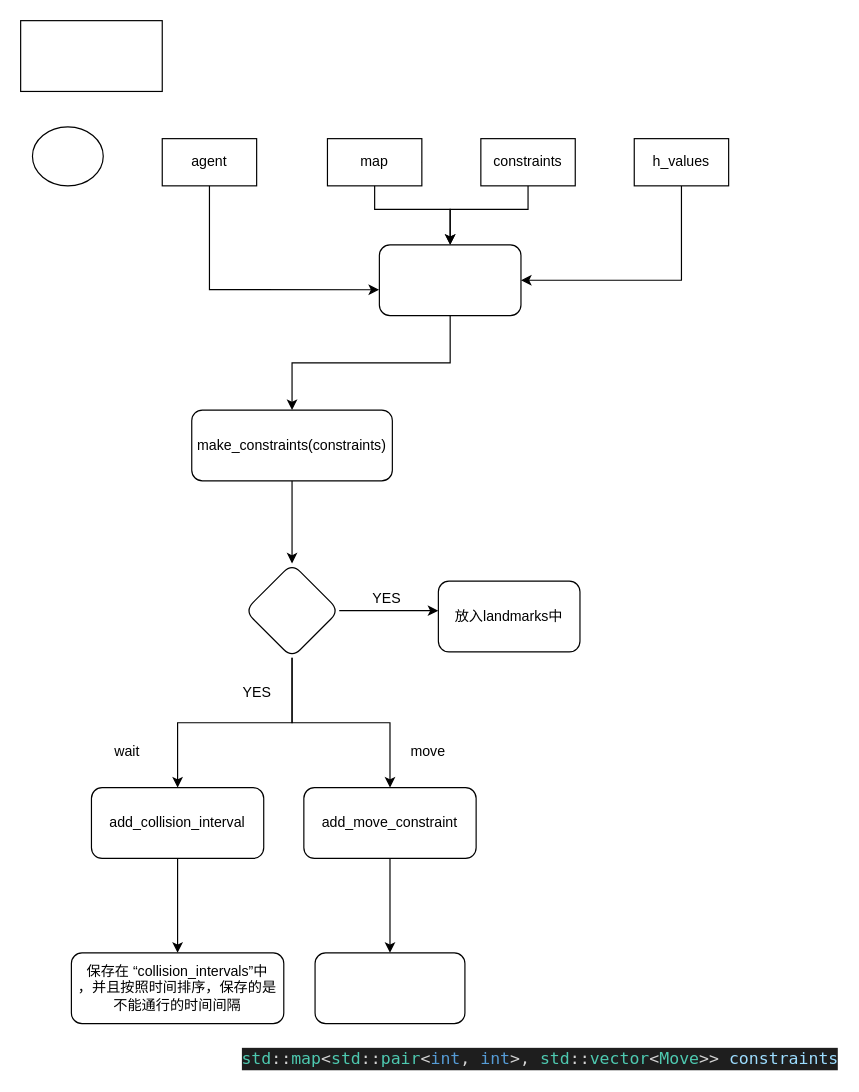
Image size: 859x1092. Some labels were removed from this diagram. The shapes that lost their labels are listed below. From the top down, each one's centre as x and y in pixels, then its label:
At (90,55): "SIPP算法".
At (67,156): "输入信息".
At (449,280): "find_path函数".
At (291,610): "posititve".
At (389,988): "保存“constraints”容器中".
